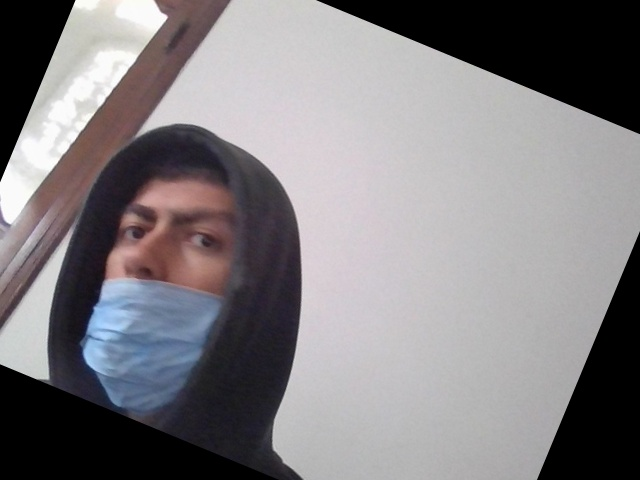mask_weared_incorrect: (82, 168, 242, 426)
